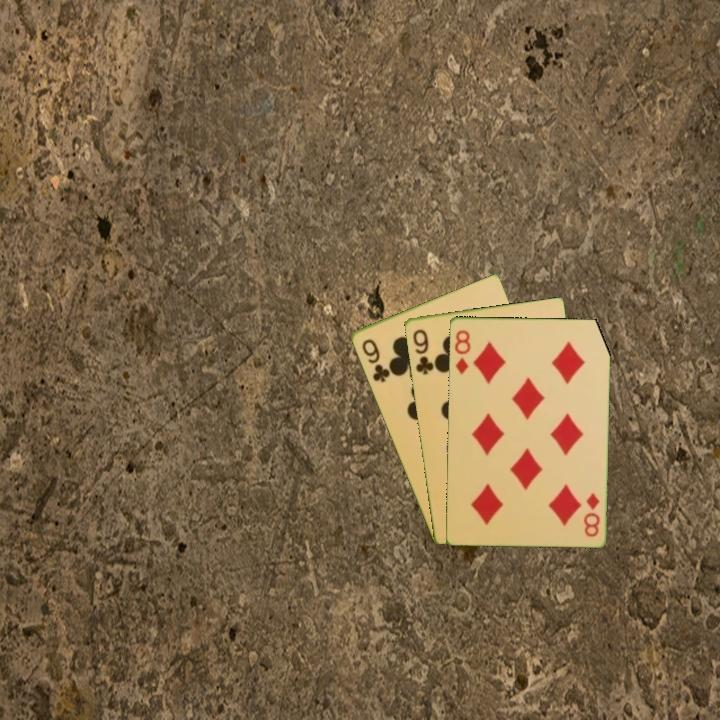8d: (580, 489, 603, 539), (451, 326, 473, 377)
9c: (358, 335, 392, 385), (409, 326, 436, 378)
